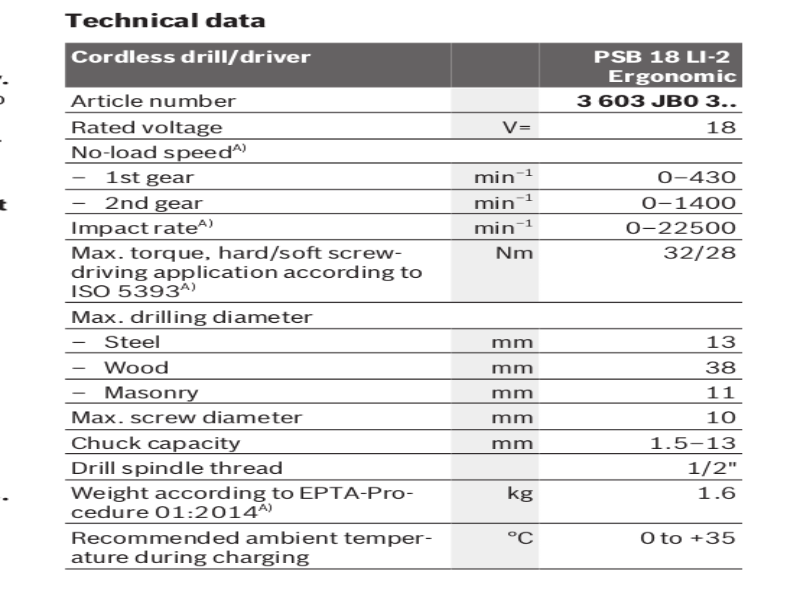borderless: (52, 32, 772, 581)
cell: (64, 244, 435, 298), (63, 528, 436, 566), (63, 485, 422, 521), (592, 43, 744, 86), (64, 304, 322, 325), (63, 331, 321, 352), (63, 356, 321, 377), (63, 381, 321, 402), (63, 407, 321, 428), (62, 433, 320, 454), (63, 455, 321, 476), (69, 48, 317, 68), (67, 139, 248, 160), (66, 167, 247, 188), (66, 191, 247, 212), (66, 217, 247, 238), (70, 89, 242, 109), (68, 116, 240, 136), (576, 91, 740, 110), (631, 528, 744, 550), (624, 217, 742, 236), (639, 192, 741, 210), (648, 432, 742, 451), (654, 166, 741, 186), (662, 242, 743, 262), (461, 115, 539, 135), (460, 166, 538, 186), (459, 190, 537, 210), (459, 216, 537, 236), (459, 242, 537, 262), (460, 330, 538, 350), (460, 356, 538, 376), (460, 381, 538, 401), (460, 407, 538, 427), (460, 432, 538, 452), (459, 483, 537, 503), (460, 527, 538, 547), (688, 485, 748, 506), (683, 458, 742, 477), (703, 382, 742, 401), (703, 357, 741, 376), (703, 407, 741, 426), (702, 332, 741, 350), (703, 118, 741, 135)
